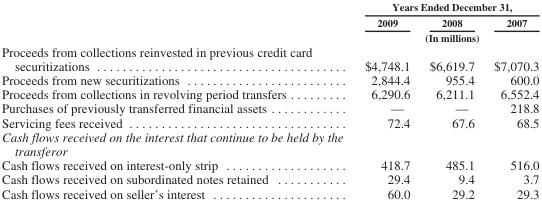table: (1, 0, 538, 200)
table column: (1, 0, 337, 200), (337, 0, 419, 200), (419, 0, 483, 200), (483, 0, 538, 200)
table column header: (1, 0, 538, 43)
table projected row header: (1, 129, 538, 157)
table row: (1, 43, 538, 72), (1, 129, 538, 157), (1, 14, 538, 29), (1, 100, 538, 115), (1, 171, 538, 186), (1, 0, 538, 14), (1, 29, 538, 43), (1, 72, 538, 86), (1, 86, 538, 100), (1, 115, 538, 129), (1, 157, 538, 171), (1, 186, 538, 200)
table spanning cell: (337, 0, 538, 14), (337, 29, 538, 43)
